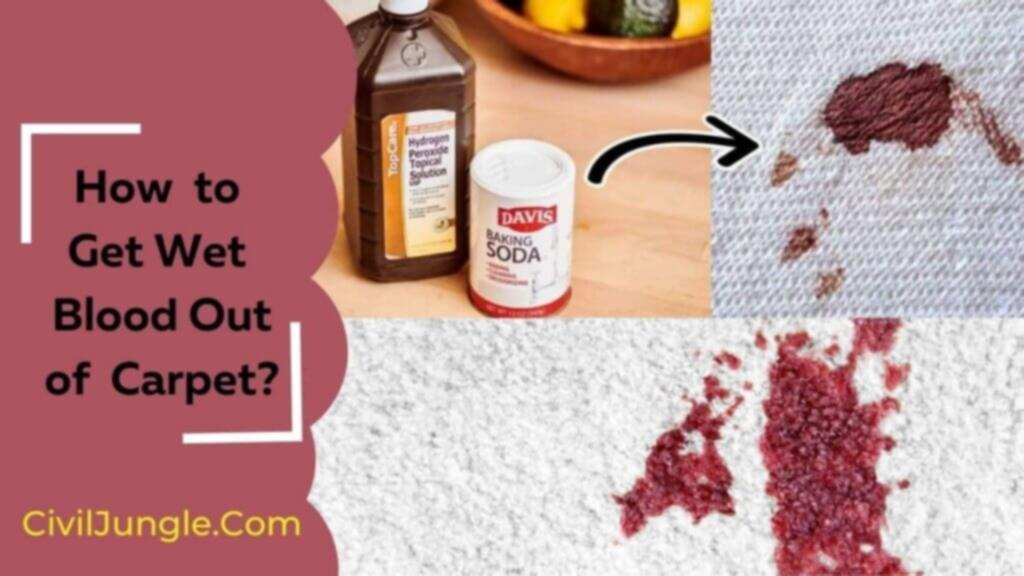Fire: (758, 316, 909, 574), (610, 398, 736, 537), (821, 59, 963, 155), (778, 228, 818, 267), (771, 148, 799, 186)
